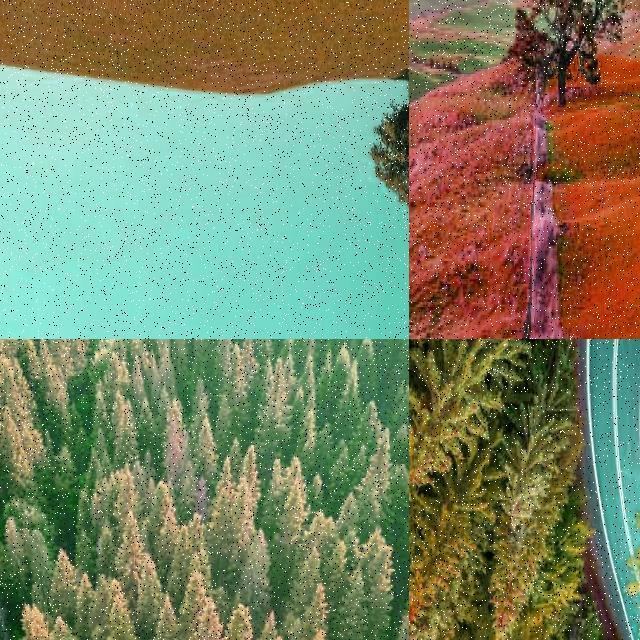tree: (410, 338, 502, 498), (511, 0, 631, 104), (499, 364, 567, 528), (408, 486, 476, 626), (486, 516, 546, 640), (367, 73, 409, 225), (260, 361, 288, 449), (244, 528, 274, 608), (0, 516, 28, 600), (148, 480, 176, 560), (333, 364, 363, 436), (337, 568, 367, 640), (52, 544, 80, 618), (239, 446, 263, 532), (162, 398, 188, 477), (139, 558, 165, 628), (47, 374, 73, 441), (0, 543, 20, 627), (27, 531, 54, 593), (0, 500, 18, 590), (355, 339, 381, 401), (112, 396, 136, 460), (106, 591, 137, 640), (192, 596, 224, 640), (195, 414, 218, 474), (76, 570, 96, 636), (305, 582, 327, 640), (150, 595, 177, 640), (18, 604, 50, 640), (224, 600, 252, 640), (121, 508, 143, 556), (338, 492, 362, 536), (1, 560, 16, 628), (56, 448, 76, 498), (396, 491, 408, 574), (0, 580, 16, 640), (75, 526, 95, 574), (0, 442, 12, 518), (76, 488, 94, 538), (52, 616, 84, 640), (258, 606, 278, 640), (392, 424, 408, 464), (0, 362, 12, 412), (0, 360, 8, 404)
